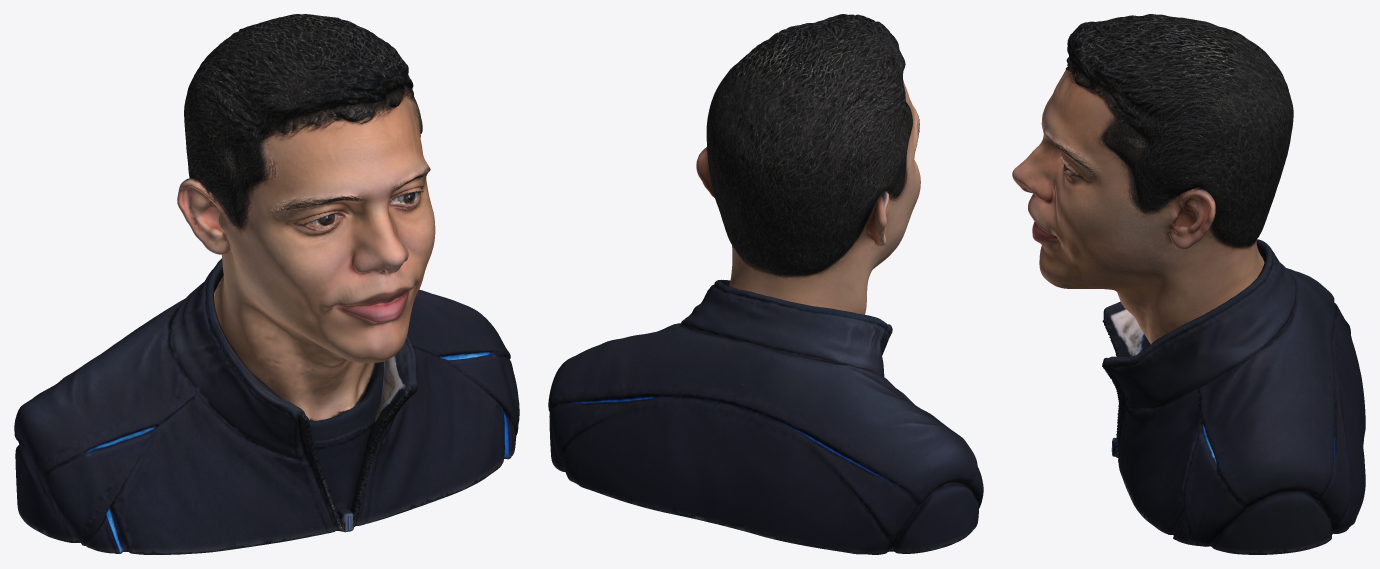
File: edu.glb
3 renders of one model, left to right at view 1: azimuth 30°, elevation 25°; view 2: azimuth 150°, elevation 25°; view 3: azimuth 270°, elevation 25°, orthographic. The views are drawn at different scales.
Visible parts, largest first — view 1: edu_rest, edu_face; view 2: edu_rest, edu_face; view 3: edu_rest, edu_face.
Part boxes in pixels (<box>): edu_rest: <box>14,14,519,554</box>; edu_face: <box>178,27,435,465</box>; edu_rest: <box>548,14,983,554</box>; edu_face: <box>701,51,920,314</box>; edu_rest: <box>1067,14,1365,554</box>; edu_face: <box>1012,57,1293,411</box>.
Bounding box in the file's own units: 0.9789 × 0.9643 × 0.7227.
3 materials, 2 textured.
